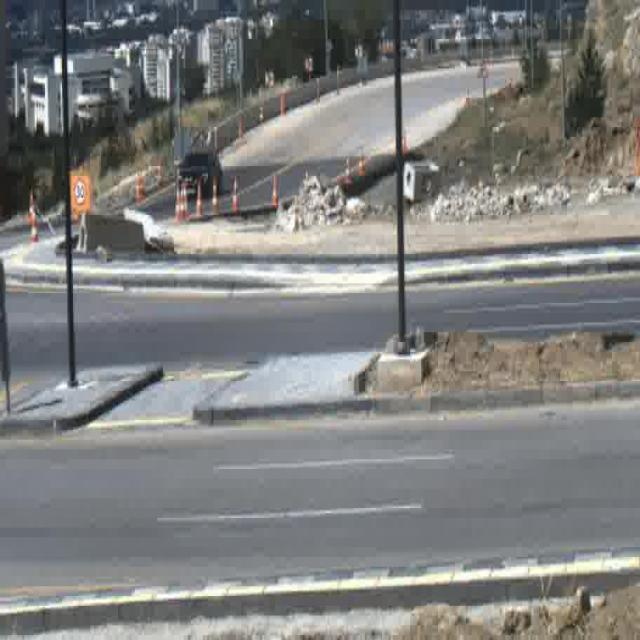Car: (177, 149, 221, 197)
